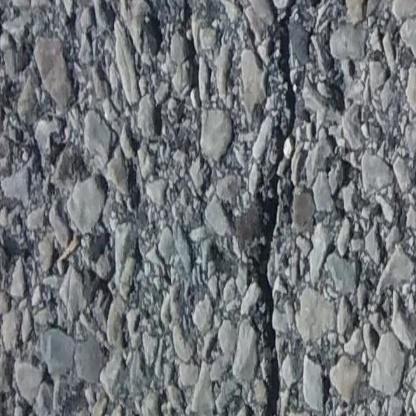Cracks: (241, 0, 307, 416), (190, 0, 215, 7)
